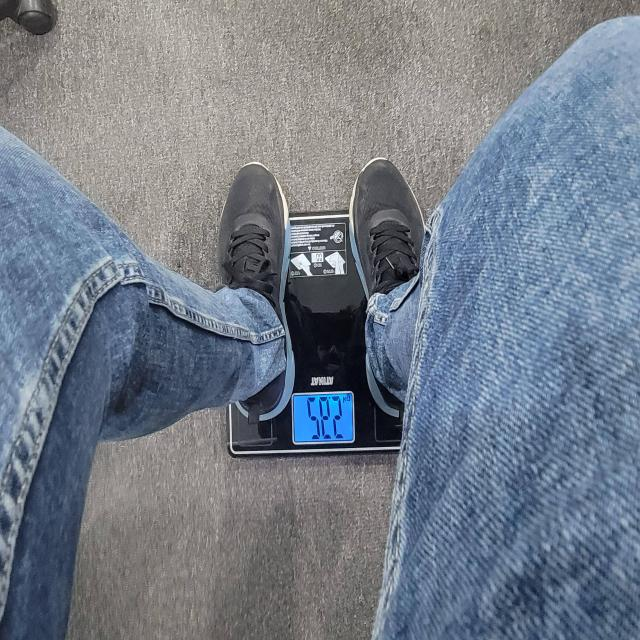ws: (237, 341, 360, 455)
